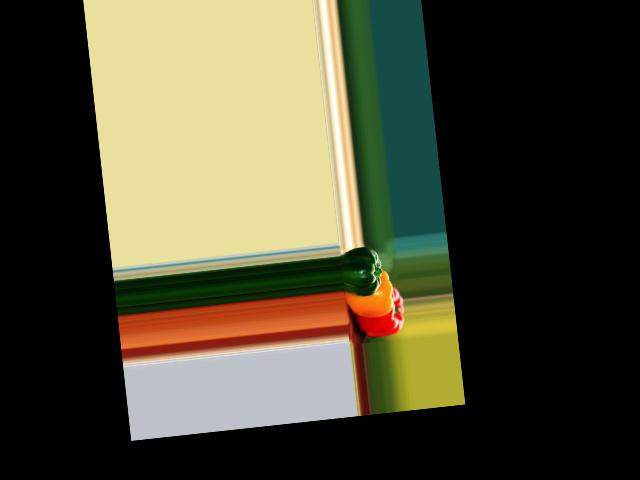bell_pepper: (346, 286, 406, 339)
